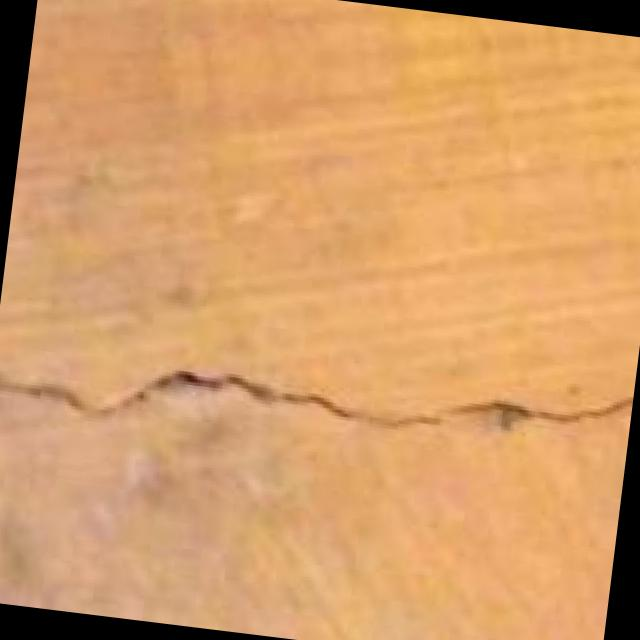crack: (0, 259, 637, 597)
